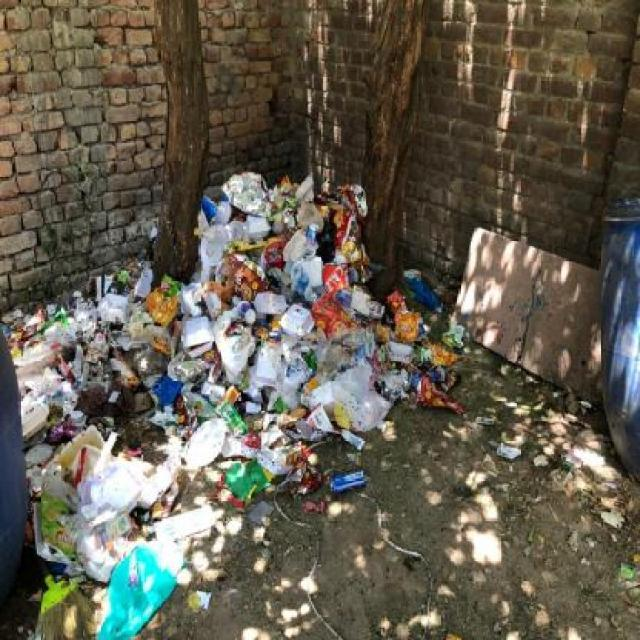garbage: (1, 74, 634, 640)
